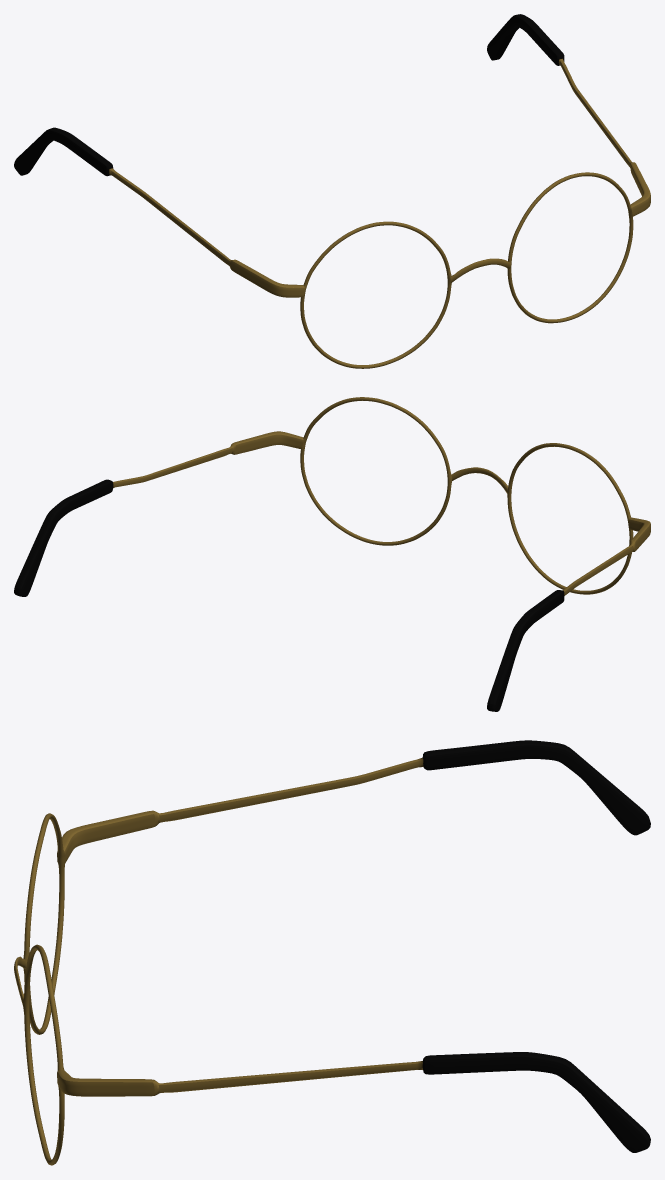
The model's file is glasses01.glb.
3 views of the same model, one above another, from view 1: azimuth 30°, elevation 25°; view 2: azimuth 150°, elevation 25°; view 3: azimuth 270°, elevation 25° (orthographic). The views are drawn at different scales.
Visible parts, largest first — view 1: frame; view 2: frame; view 3: frame.
Part boxes in pixels (box(x1,y1,x2,y2)): frame: box(14, 14, 650, 368); frame: box(14, 397, 650, 711); frame: box(14, 740, 650, 1165).
Size of what is drawn, in the model's own units: 0.4141 by 0.1197 by 0.3436.
